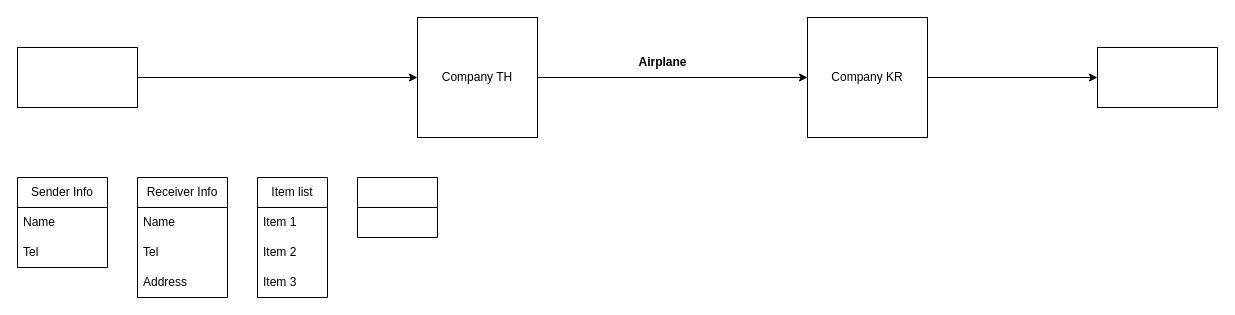
The diagram is 1235 pixels wide and 315 high, and some of its shapes have lost their labels. The shapes that lost their labels are listed below. From the top down, each one's centre as x and y in pixels, then its label:
At (77,77): "Sender".
At (1157,77): "Receiver".
At (397,207): "Service Fees".
